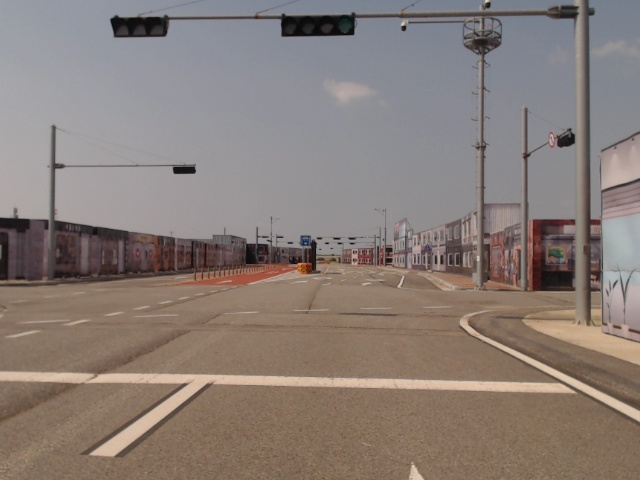straight_green_4: (283, 15, 355, 38)
